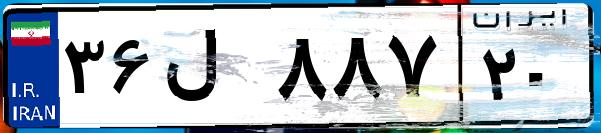0: (525, 38, 570, 115)
2: (475, 38, 525, 113)
3: (57, 26, 110, 100)
6: (110, 28, 158, 98)
7: (385, 28, 445, 110)
8: (270, 28, 330, 110), (330, 28, 385, 110)
ل: (158, 20, 270, 120)
